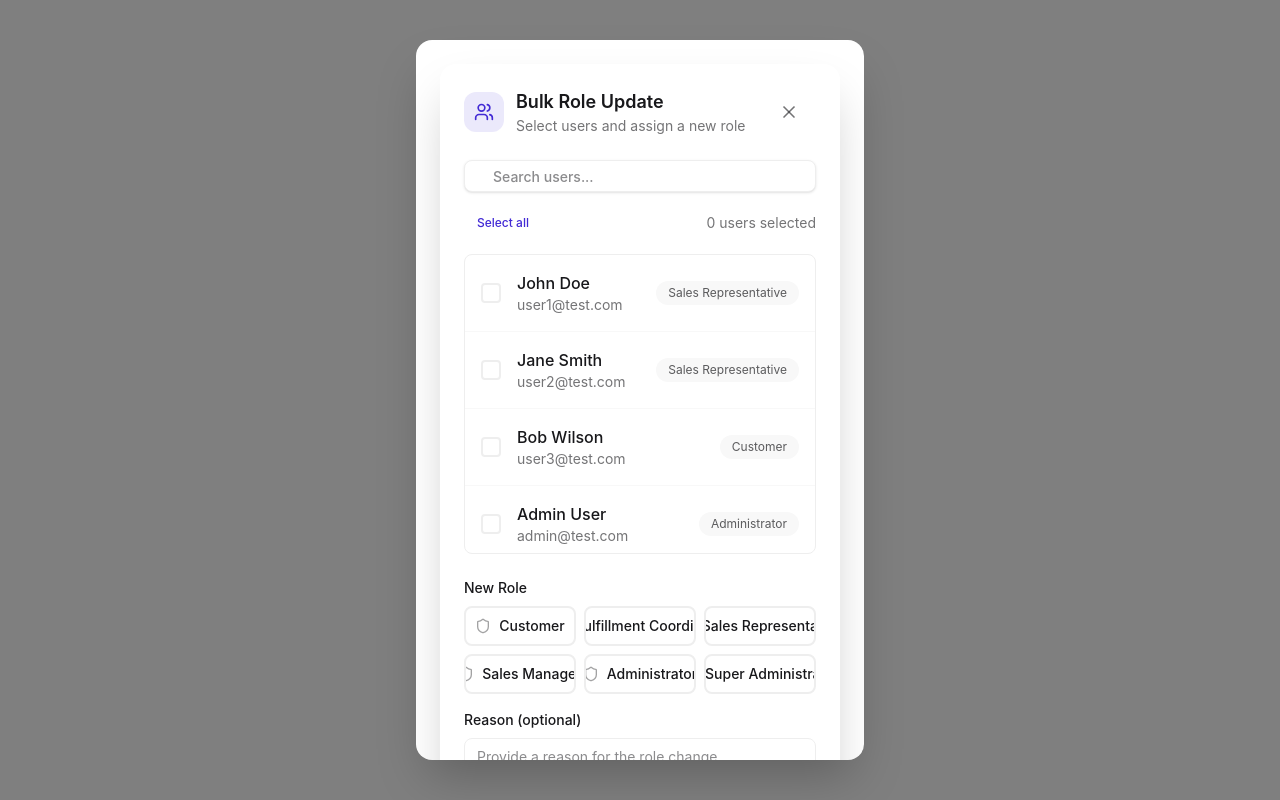
Test: BulkRoleModal Component › Form Validation › should disable submit when no role selected
# Select users but don't select role
Click the button "Select all".
click(503, 223)  # box [464,208,542,238]
(page scrolled)
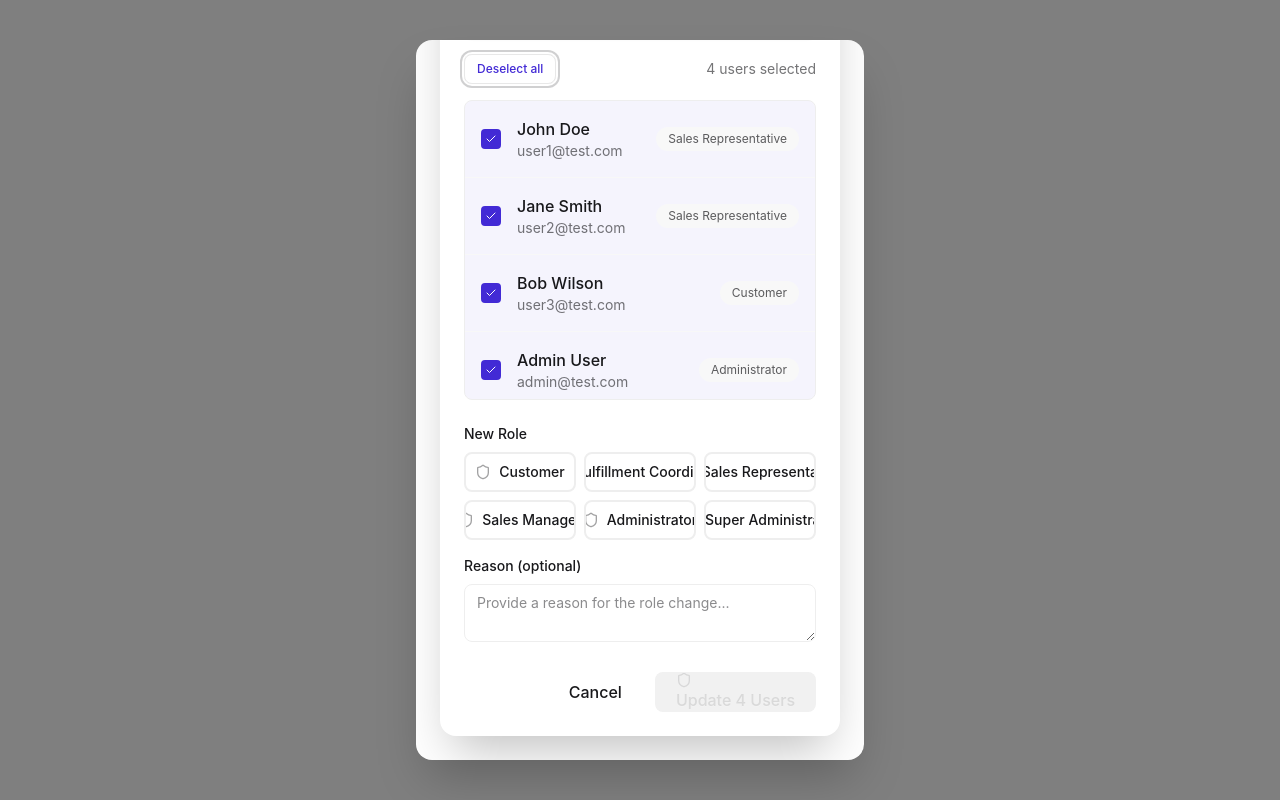
Expected: the button "Update 4 Users" is disabled, [655,672,816,712]
